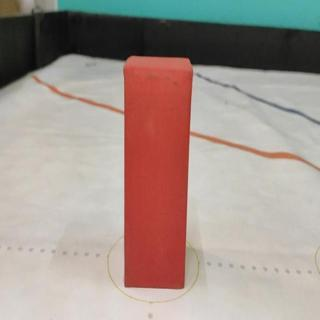redbox: (125, 55, 193, 290)
